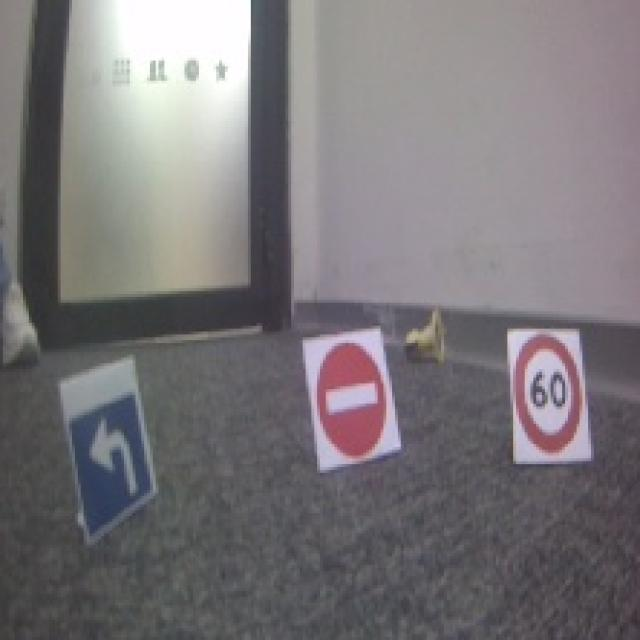DoNotEnterSign: (314, 342, 388, 458)
